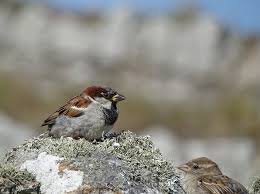hsparrow: (42, 84, 129, 146)
